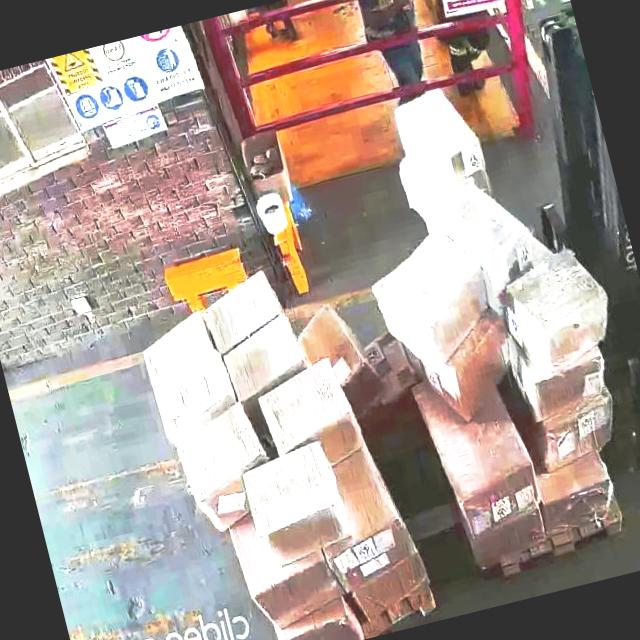Box: (498, 247, 618, 376), (238, 442, 354, 574), (370, 227, 482, 359), (394, 78, 479, 184), (261, 364, 357, 456), (456, 178, 536, 282), (173, 414, 266, 497), (454, 466, 546, 540), (205, 266, 288, 346), (538, 401, 626, 468), (520, 358, 608, 424), (220, 321, 300, 392), (333, 516, 415, 584), (352, 552, 433, 620), (260, 562, 337, 628), (541, 482, 614, 530), (275, 605, 359, 640)
